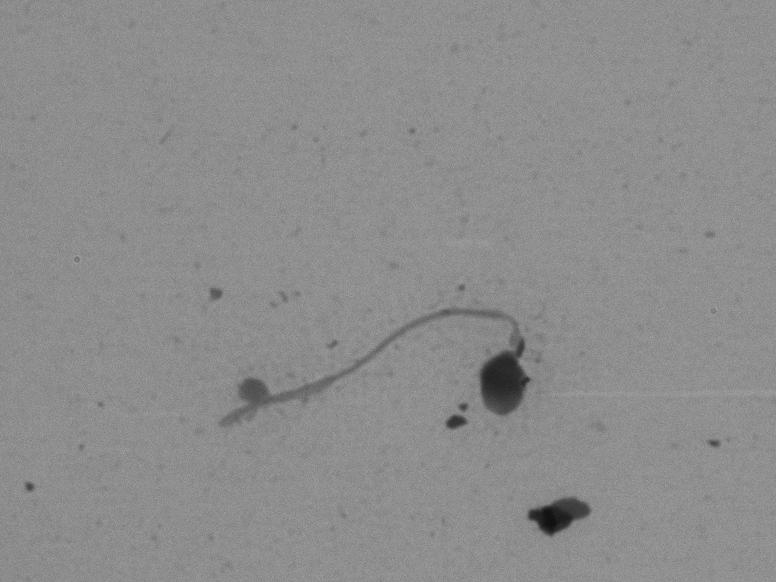Abnormal: (194, 292, 562, 439)
